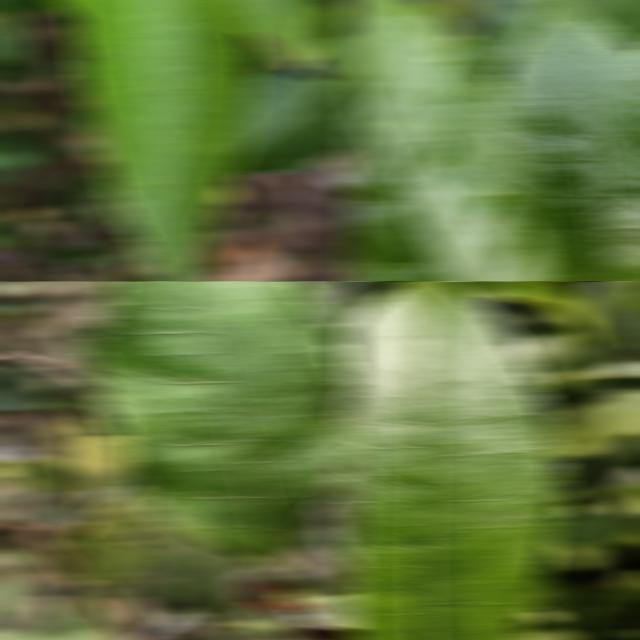Leaf: (345, 281, 566, 640), (85, 281, 354, 575), (345, 0, 550, 281), (66, 0, 256, 281), (485, 0, 640, 281), (225, 33, 359, 172), (134, 494, 254, 615), (61, 484, 148, 587), (480, 281, 601, 344), (546, 387, 640, 459), (233, 0, 321, 70), (572, 281, 639, 364), (564, 568, 640, 640), (0, 361, 57, 411), (300, 592, 359, 629), (448, 281, 508, 297)
